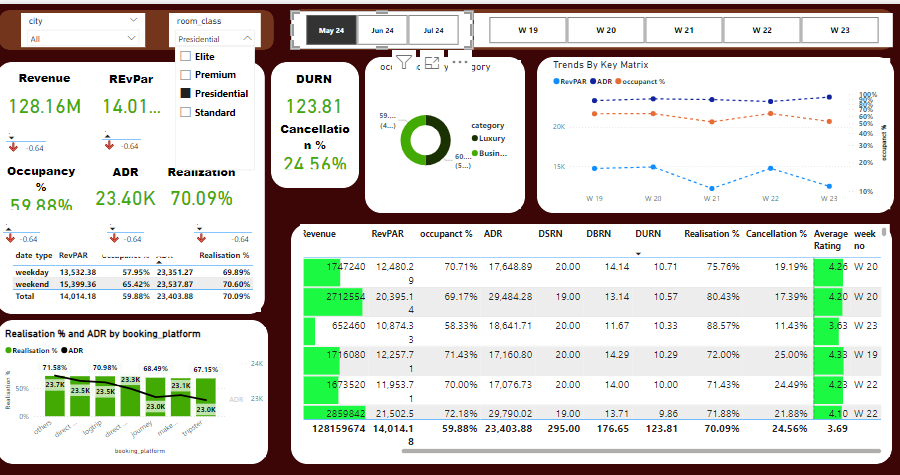

Layout of this report page (visuals, bound fields, positions):
{"tool":"powerbi","page":{"name":"Page 1","canvas":[1900,1100],"ordinal":0},"visuals":[{"type":"shape","box":[458.3,96.7,146.7,210],"z":0},{"type":"shape","box":[1.7,526.7,451.7,240],"z":1000},{"type":"shape","box":[491.7,366.7,1001.7,400],"z":2000},{"type":"shape","box":[901.7,88.3,595,260],"z":3000},{"type":"shape","box":[615,88.3,266.7,260],"z":4000},{"type":"shape","box":[0,96.7,448.3,420],"z":5000},{"type":"shape","box":[491.7,8.3,1003.3,68.3],"z":6000},{"type":"shape","box":[5,10,458.3,66.7],"z":7000},{"type":"tableEx","fields":{"Values":["dim_hostels.property_id","dim_hostels.property_name","dim_hostels.city","measures (2).Revenue","measures (2).RevPAR","measures (2).occupanct %","measures (2).ADR","measures (2).DSRN","measures (2).DBRN","measures (2).DURN","measures (2).Realisation %","measures (2).Cancellation %"]},"box":[506.7,366.7,983.3,388.3],"z":8000},{"type":"slicer","fields":{"Values":["dim_hostels.city"]},"box":[41.7,15,206.7,56.7],"z":9000},{"type":"slicer","fields":{"Values":["dim_rooms.room_class"]},"box":[288.3,15,153.3,56.7],"z":10000},{"type":"card","title":"Revenue","fields":{"Values":["measures (2).Revenue"]},"box":[5,108.3,151.7,91.7],"z":11000},{"type":"tableEx","fields":{"Values":["measures (2).Revenue WoW change %"]},"box":[10,196.7,103.3,66.7],"z":12000},{"type":"donutChart","fields":{"Category":["dim_hostels.category"],"Y":["measures (2).occupanct %"]},"box":[635,93.3,240,248.3],"z":13000},{"type":"card","title":"Occupancy %","fields":{"Values":["measures (2).occupanct %"]},"box":[5,263.3,140,85],"z":14000},{"type":"card","title":"ADR","fields":{"Values":["measures (2).ADR"]},"box":[156.7,265,118.3,83.3],"z":15000},{"type":"card","title":"Realization","fields":{"Values":["measures (2).Realisation %"]},"box":[275,265,135,83.3],"z":16000},{"type":"tableEx","fields":{"Values":["measures (2).Revenue WoW change %"]},"box":[170,193.3,105,58.3],"z":17000},{"type":"tableEx","fields":{"Values":["measures (2).Revenue WoW change %"]},"box":[5,348.3,133.3,58.3],"z":18000},{"type":"card","title":"REvPar","fields":{"Values":["measures (2).RevPAR"]},"box":[170,110,110,88.3],"z":19000},{"type":"card","title":"DSRN","fields":{"Values":["measures (2).DSRN"]},"box":[291.7,113.3,126.7,86.7],"z":20000},{"type":"lineChart","title":"Trends By Key Matrix","fields":{"Category":["dim_date.mmm yy.Variation.Date Hierarchy.Month","dim_date.week no"],"Y":["measures (2).RevPAR","measures (2).ADR"],"Y2":["measures (2).occupanct %"]},"box":[923.3,90,566.7,251.7],"z":21000},{"type":"lineStackedColumnComboChart","fields":{"Category":["fact_bookings.booking_platform"],"Y":["measures (2).Realisation %"],"Y2":["measures (2).ADR"]},"box":[10,538.3,440,216.7],"z":22000},{"type":"tableEx","fields":{"Values":["dim_date.date_type","measures (2).RevPAR","measures (2).occupanct %","measures (2).ADR","measures (2).Realisation %"]},"box":[21.7,403.3,420,110],"z":23000},{"type":"tableEx","fields":{"Values":["measures (2).Revenue WoW change %"]},"box":[178.3,348.3,138.3,73.3],"z":24000},{"type":"tableEx","fields":{"Values":["measures (2).Revenue WoW change %"]},"box":[305,195,93.3,68.3],"z":25000},{"type":"tableEx","fields":{"Values":["measures (2).Revenue WoW change %"]},"box":[323.3,348.3,113.3,58.3],"z":26000},{"type":"slicer","fields":{"Values":["dim_date.week no"]},"box":[796.7,14.2,698.3,56.7],"z":27000},{"type":"slicer","fields":{"Values":["dim_date.mmm yy"]},"box":[491.7,11.7,303.3,63.3],"z":28000},{"type":"card","title":"DURN","fields":{"Values":["measures (2).DURN"]},"box":[463.3,110,133.3,86.7],"z":29000},{"type":"card","title":"Cancellation %","fields":{"Values":["measures (2).Cancellation %"]},"box":[463.3,193.3,136.7,86.7],"z":30000}]}

Visuals, with their boxes on the page's 1900x1100 design canvas (x1, y1, x2, y2). These are canvas units, not pixel positions in the 900x475 screenshot, which may show the page scaled, cropped or inside an application window:
shape: bbox=(458, 97, 605, 307)
shape: bbox=(2, 527, 453, 767)
shape: bbox=(492, 367, 1493, 767)
shape: bbox=(902, 88, 1497, 348)
shape: bbox=(615, 88, 882, 348)
shape: bbox=(0, 97, 448, 517)
shape: bbox=(492, 8, 1495, 77)
shape: bbox=(5, 10, 463, 77)
tableEx - dim_hostels.property_id x dim_hostels.property_name: bbox=(507, 367, 1490, 755)
slicer - dim_hostels.city: bbox=(42, 15, 248, 72)
slicer - dim_rooms.room_class: bbox=(288, 15, 442, 72)
"Revenue" card: bbox=(5, 108, 157, 200)
tableEx - measures (2).Revenue WoW change %: bbox=(10, 197, 113, 263)
donutChart - dim_hostels.category x measures (2).occupanct %: bbox=(635, 93, 875, 342)
"Occupancy %" card: bbox=(5, 263, 145, 348)
"ADR" card: bbox=(157, 265, 275, 348)
"Realization" card: bbox=(275, 265, 410, 348)
tableEx - measures (2).Revenue WoW change %: bbox=(170, 193, 275, 252)
tableEx - measures (2).Revenue WoW change %: bbox=(5, 348, 138, 407)
"REvPar" card: bbox=(170, 110, 280, 198)
"DSRN" card: bbox=(292, 113, 418, 200)
"Trends By Key Matrix" lineChart: bbox=(923, 90, 1490, 342)
lineStackedColumnComboChart - fact_bookings.booking_platform x measures (2).Realisation %: bbox=(10, 538, 450, 755)
tableEx - dim_date.date_type x measures (2).RevPAR: bbox=(22, 403, 442, 513)
tableEx - measures (2).Revenue WoW change %: bbox=(178, 348, 317, 422)
tableEx - measures (2).Revenue WoW change %: bbox=(305, 195, 398, 263)
tableEx - measures (2).Revenue WoW change %: bbox=(323, 348, 437, 407)
slicer - dim_date.week no: bbox=(797, 14, 1495, 71)
slicer - dim_date.mmm yy: bbox=(492, 12, 795, 75)
"DURN" card: bbox=(463, 110, 597, 197)
"Cancellation %" card: bbox=(463, 193, 600, 280)
